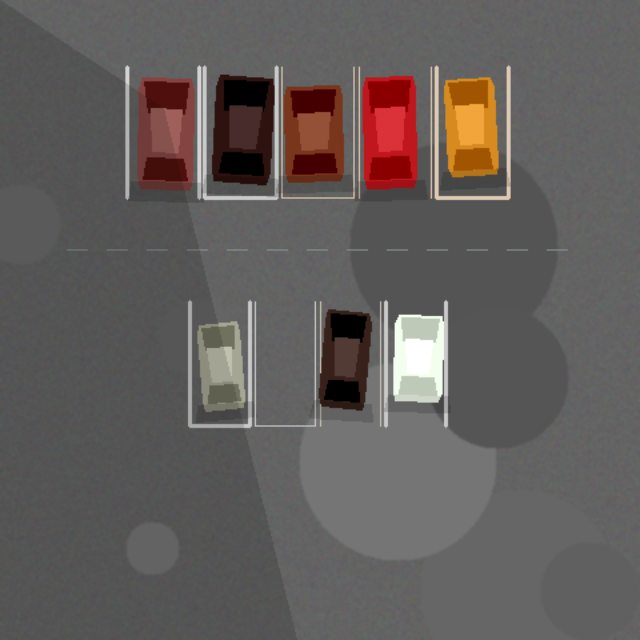space-empty: (255, 301, 315, 425)
space-occupied: (127, 67, 199, 197), (204, 67, 276, 197), (281, 67, 353, 197), (359, 67, 431, 197), (436, 67, 508, 197), (189, 301, 249, 425), (320, 301, 380, 425), (385, 301, 445, 425)
